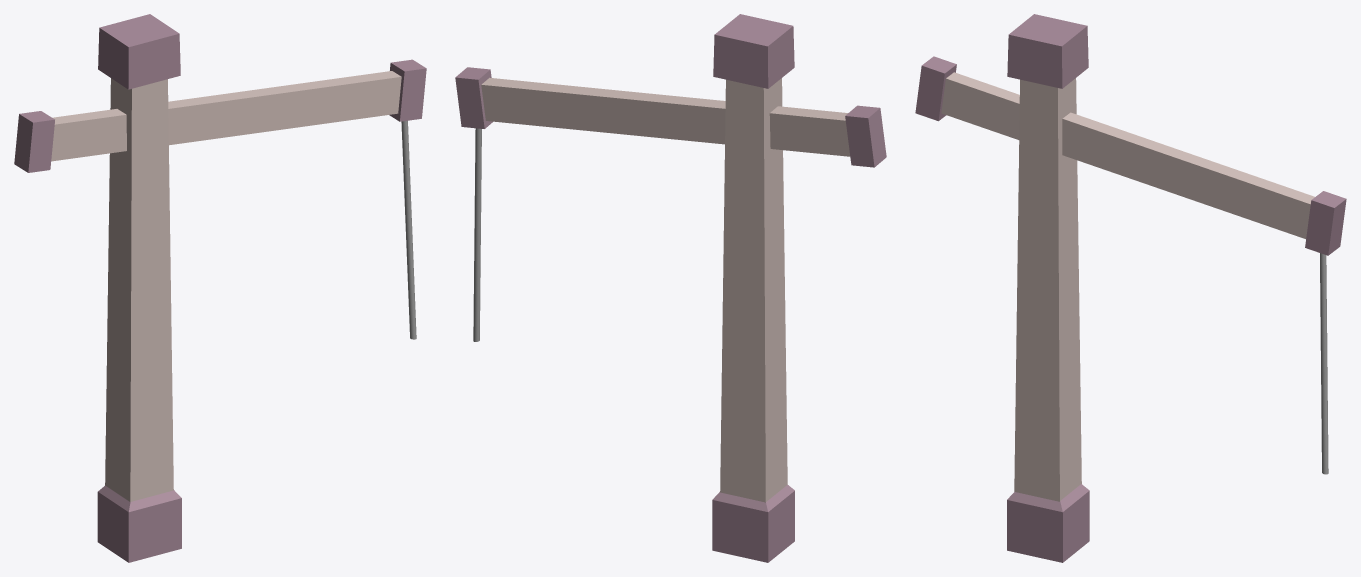
The model's file is SM_Grabbling.fbx.
The picture shows the model from 3 angles, left to right: view 1: azimuth 30°, elevation 25°; view 2: azimuth 150°, elevation 25°; view 3: azimuth 330°, elevation 25°; orthographic projection.
Parts seen in each view (by area): view 1: SM_Grabbling; view 2: SM_Grabbling; view 3: SM_Grabbling.
Boxes of the visible parts, left/top/right/bottom form: SM_Grabbling: left=14, top=14, right=426, bottom=562; SM_Grabbling: left=455, top=14, right=886, bottom=562; SM_Grabbling: left=915, top=14, right=1346, bottom=562.
Bounding box in the file's own units: 329 × 395 × 42.01.
